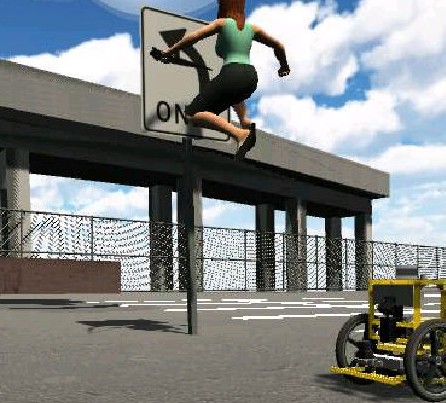arrow_left: (144, 24, 220, 100)
